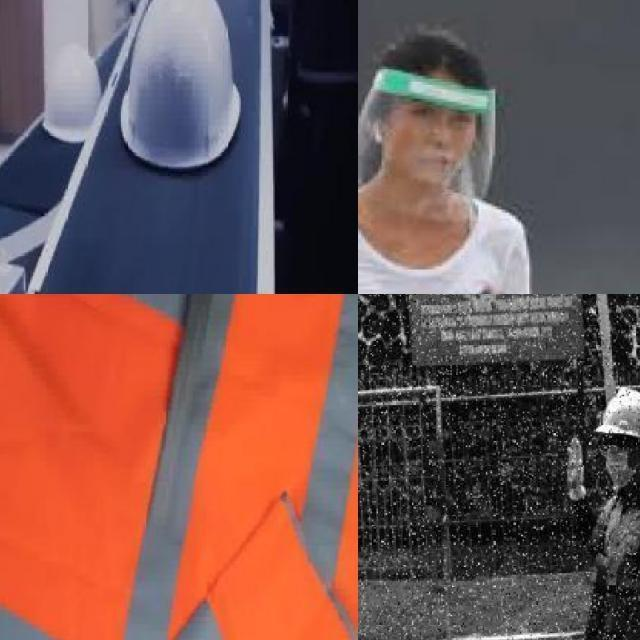apron: (561, 433, 589, 506)
